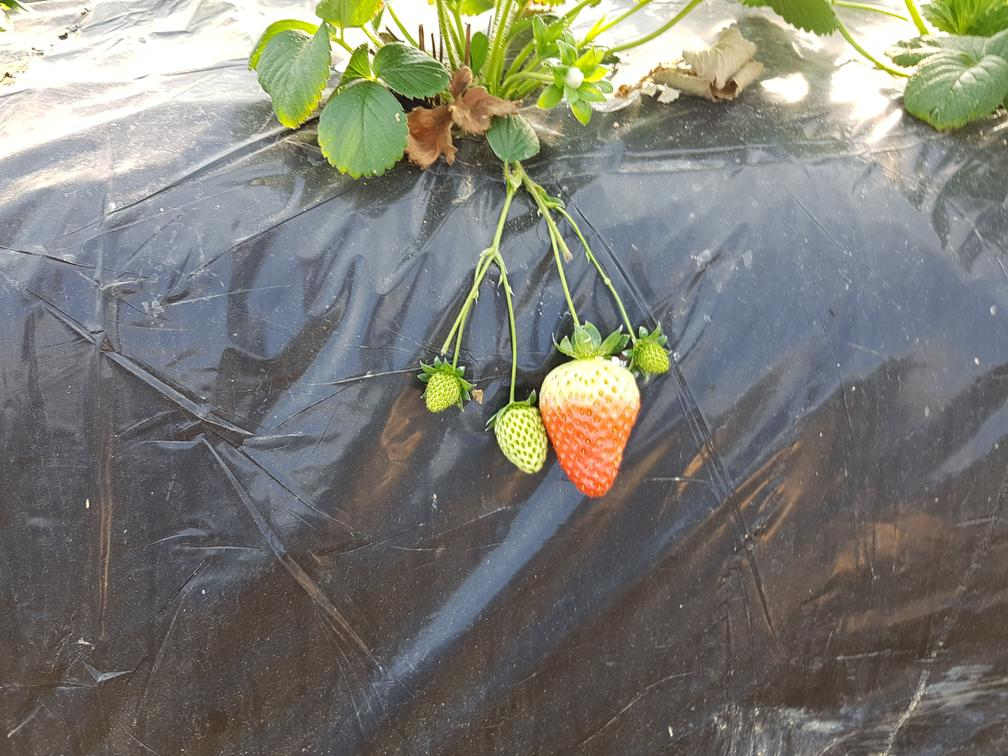Ripe: (537, 358, 641, 500)
Unripe: (495, 408, 547, 474), (425, 360, 467, 419), (639, 339, 676, 374)
